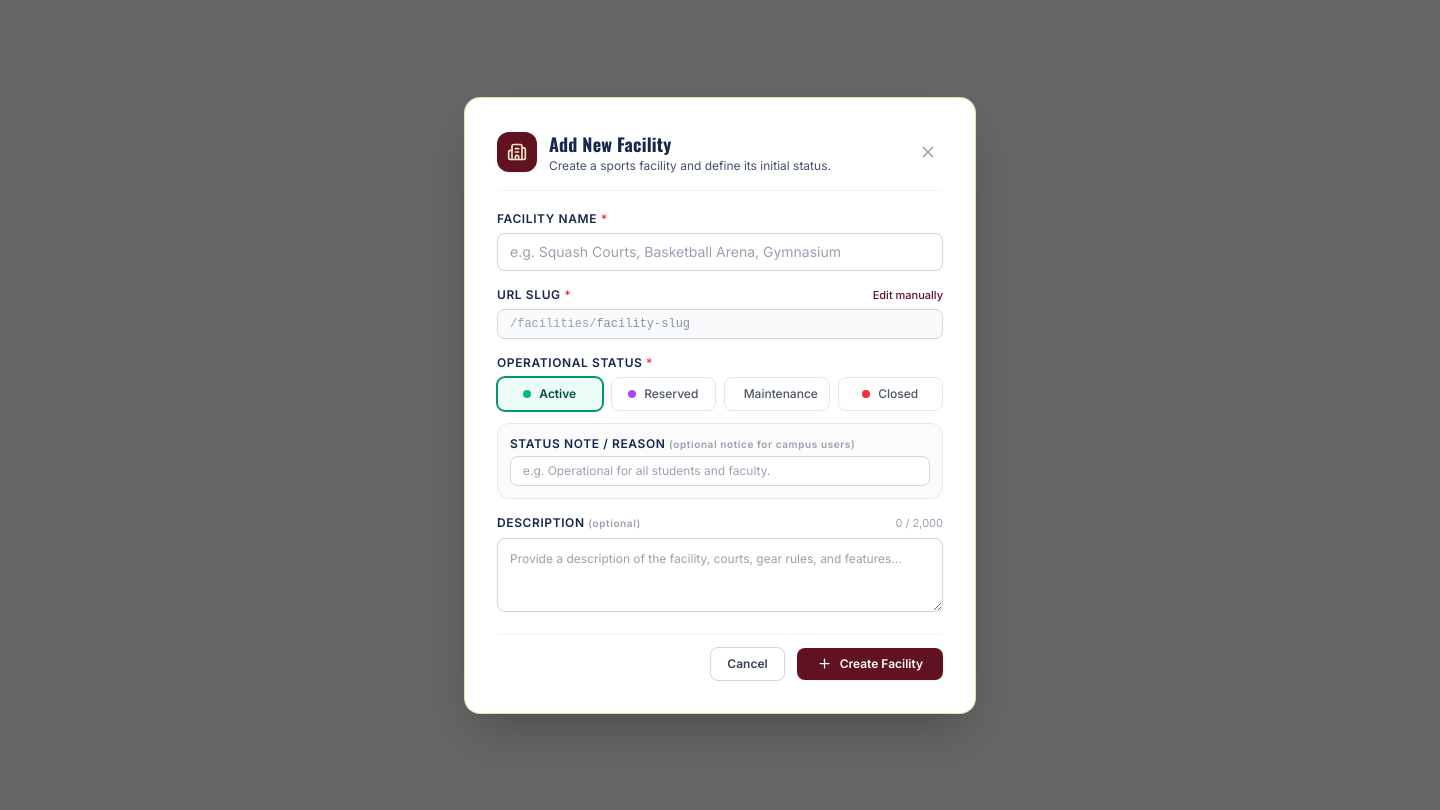
Scenario: CreateFacilityModal Component › auto-generates slug from name and allows manual edit
Type "Squash Courts" into the field with test id "create-facility-name-input" at (720, 252), box [497,232,943,270]
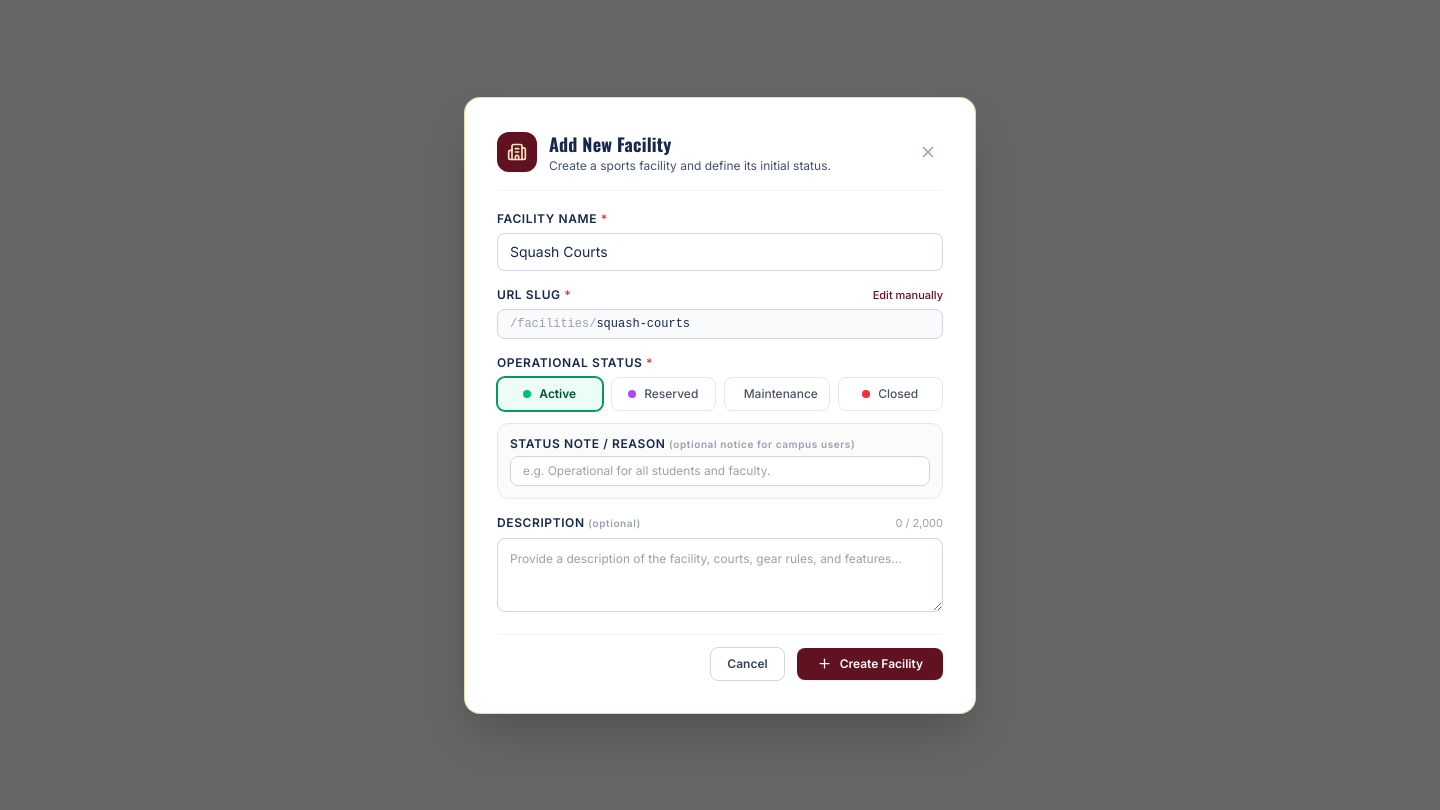
Now the field with test id "create-facility-slug-input" holds "squash-courts", box [596,316,930,332]
// Toggle manual editing
Click the button "Edit manually" at (908, 295), box [873,286,943,303]
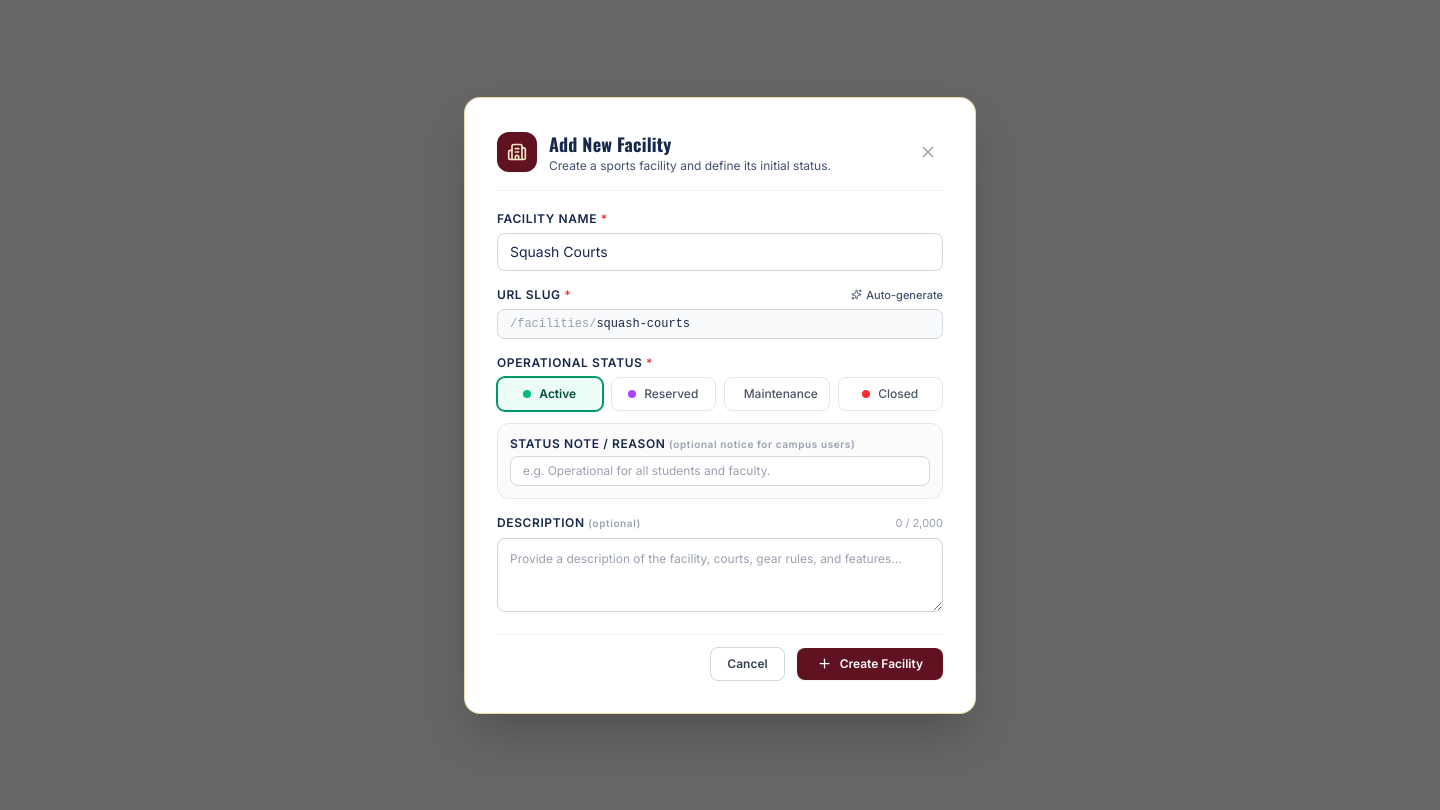
Replace the text in the field with test id "create-facility-slug-input" with "custom-squash" at (763, 324), box [596,316,930,332]
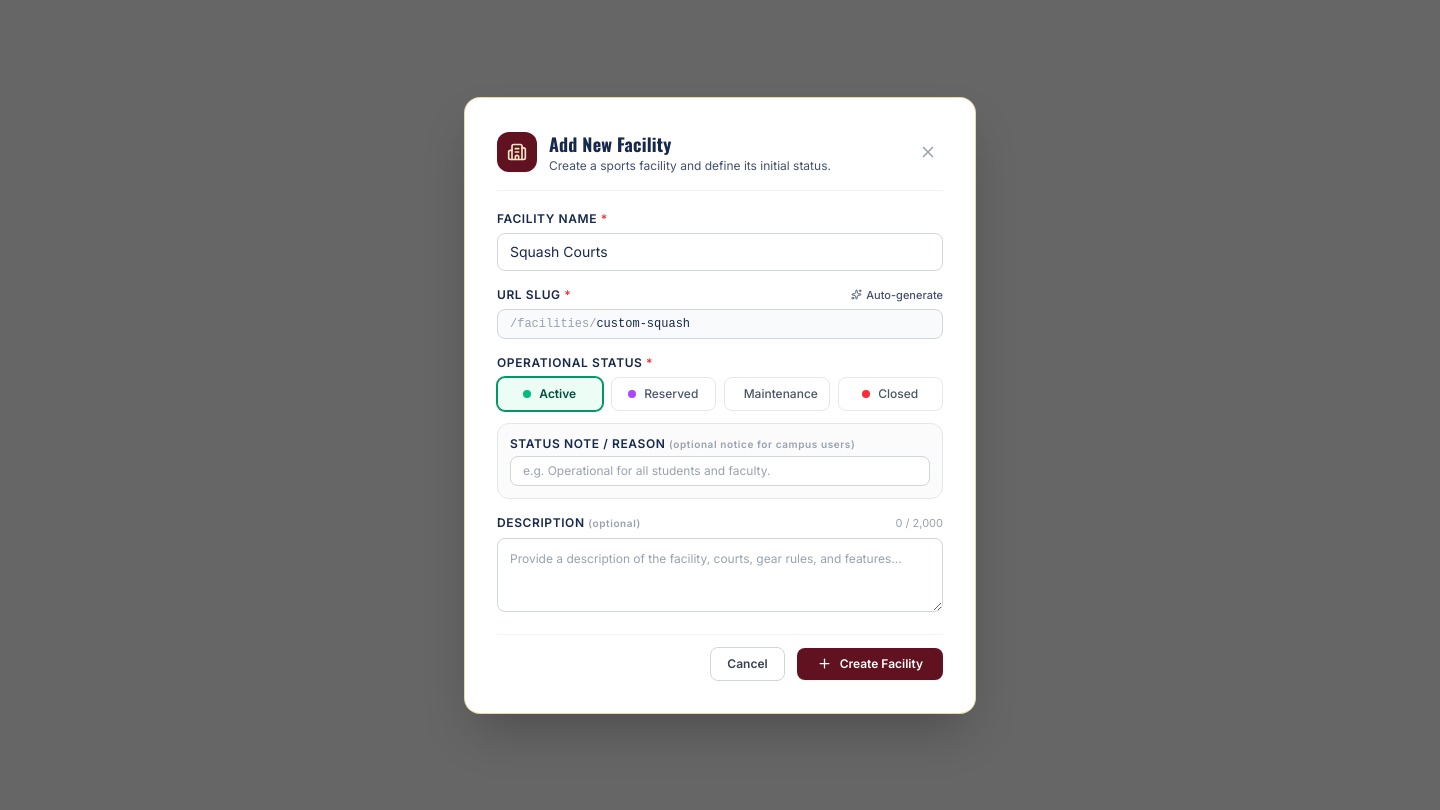
// Auto-generate back
Click the button "Auto-generate" at (897, 295), box [851,286,943,303]
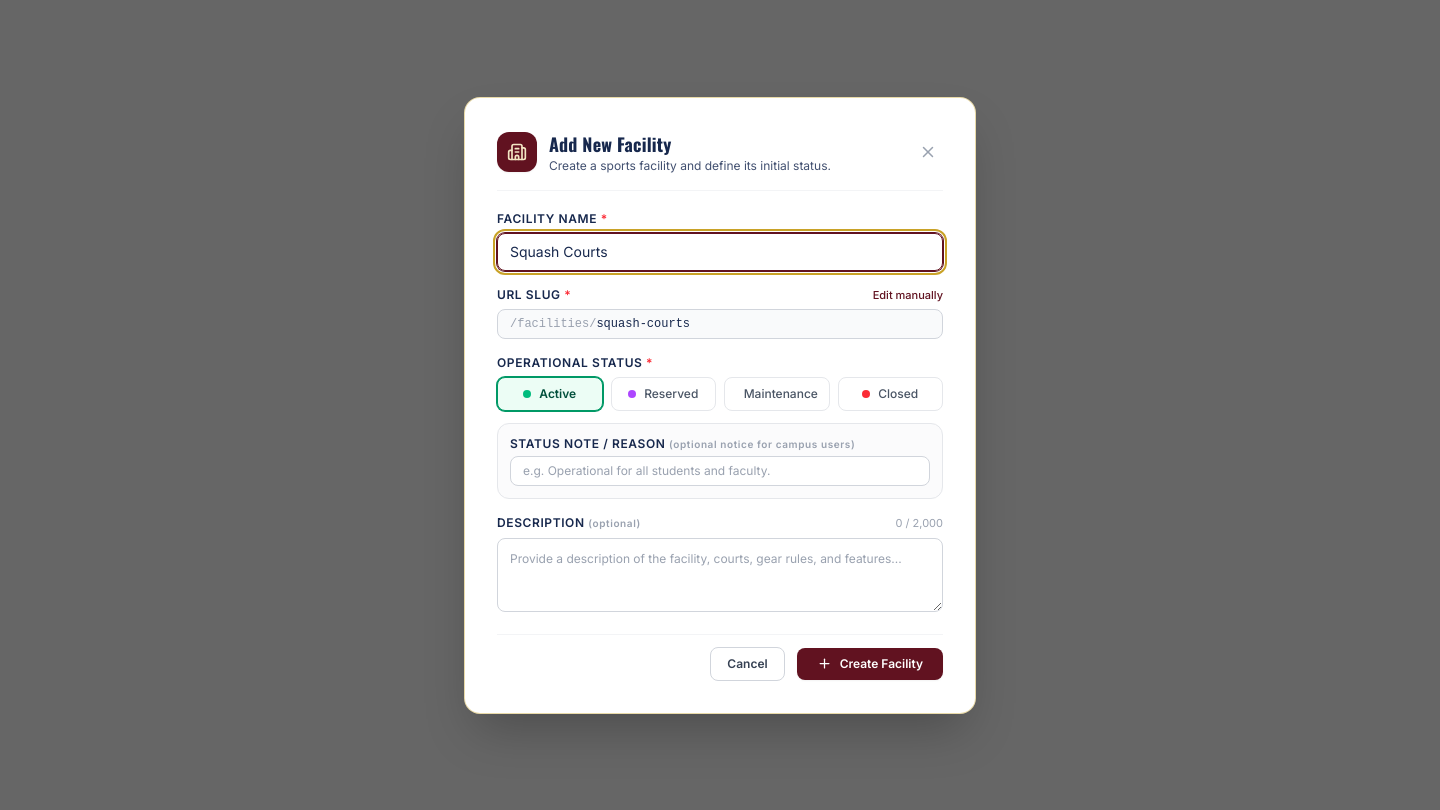
Now the field with test id "create-facility-slug-input" holds "squash-courts", box [596,316,930,332]
